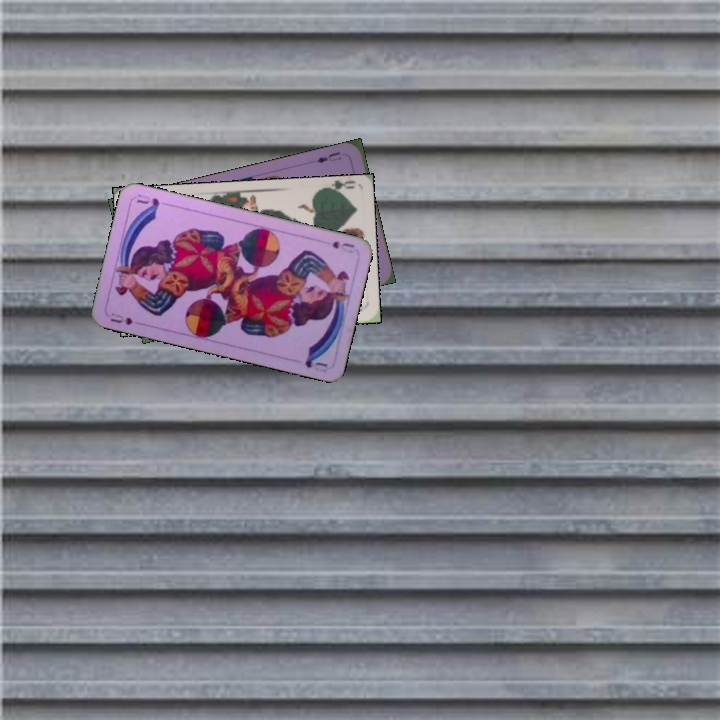EU: (312, 148, 344, 166)
GO: (317, 179, 357, 198)
SU: (328, 237, 357, 256), (106, 309, 135, 328)
